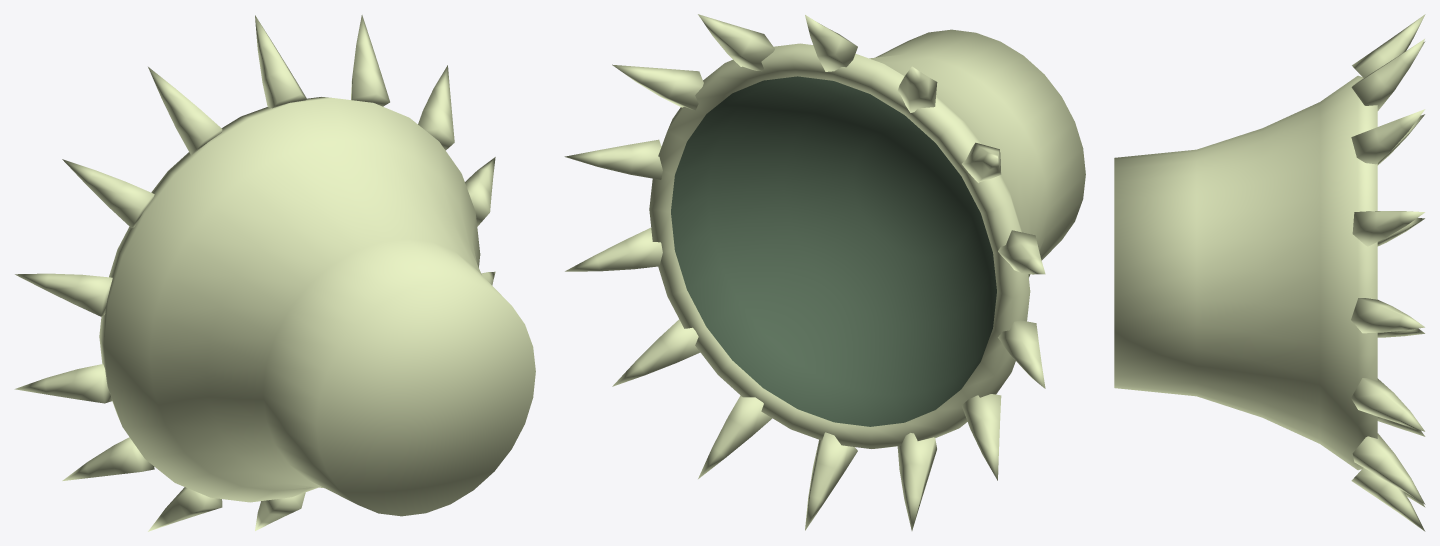
The model's file is part_mouth_filter.glb.
3 views of the same model, side by side, from view 1: azimuth 30°, elevation 25°; view 2: azimuth 150°, elevation 25°; view 3: azimuth 270°, elevation 25° (orthographic). The views are drawn at different scales.
Parts seen in each view (by area): view 1: MouthFilter; view 2: MouthFilter; view 3: MouthFilter.
Part boxes in pixels (x1,y1,x2,y2): MouthFilter: (14,15,535,531); MouthFilter: (564,14,1085,530); MouthFilter: (1114,14,1425,531).
Size of the model in its own units: 0.307 by 0.3149 by 0.1892.
